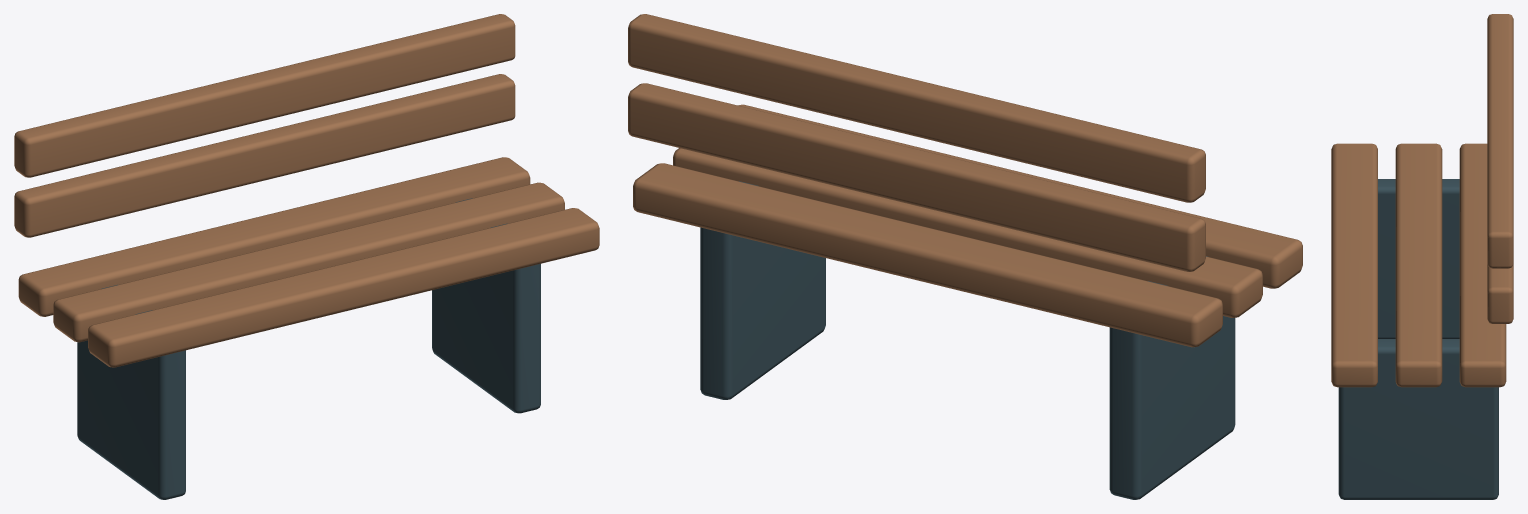
The model's file is bench.glb.
3 renders of one model, left to right at view 1: azimuth 30°, elevation 25°; view 2: azimuth 150°, elevation 25°; view 3: azimuth 270°, elevation 25°, orthographic. The views are drawn at different scales.
Parts seen in each view (by area): view 1: bench_Bench_Back.001, bench_Bench_Back, bench_Bench_Slat.002, bench_Bench_Slat, bench_Bench_Slat.001, bench_Bench_Leg, bench_Bench_Leg.001; view 2: bench_Bench_Back.001, bench_Bench_Back, bench_Bench_Slat, bench_Bench_Leg, bench_Bench_Leg.001, bench_Bench_Slat.001, bench_Bench_Slat.002; view 3: bench_Bench_Leg.001, bench_Bench_Slat.001, bench_Bench_Slat.002, bench_Bench_Slat, bench_Bench_Back.001, bench_Bench_Leg, bench_Bench_Back.
Boxes of the visible parts, x1,y1,x2,y2 form: bench_Bench_Back.001: (14, 14, 515, 177); bench_Bench_Back: (14, 74, 515, 237); bench_Bench_Slat.002: (88, 208, 599, 367); bench_Bench_Slat: (18, 157, 530, 316); bench_Bench_Slat.001: (53, 182, 564, 342); bench_Bench_Leg: (77, 284, 185, 499); bench_Bench_Leg.001: (432, 198, 540, 413); bench_Bench_Back.001: (628, 14, 1205, 202); bench_Bench_Back: (628, 83, 1205, 271); bench_Bench_Slat: (633, 163, 1222, 347); bench_Bench_Leg: (1109, 256, 1235, 499); bench_Bench_Leg.001: (700, 181, 825, 399); bench_Bench_Slat.001: (673, 148, 1262, 317); bench_Bench_Slat.002: (738, 104, 1302, 288); bench_Bench_Leg.001: (1338, 339, 1498, 499); bench_Bench_Slat.001: (1395, 143, 1442, 387); bench_Bench_Slat.002: (1331, 143, 1377, 387); bench_Bench_Slat: (1459, 143, 1506, 387); bench_Bench_Back.001: (1487, 14, 1513, 268); bench_Bench_Leg: (1378, 179, 1459, 338); bench_Bench_Back: (1487, 264, 1513, 323).
Size of the model in its own units: 1.8 by 1.11 by 0.625.
